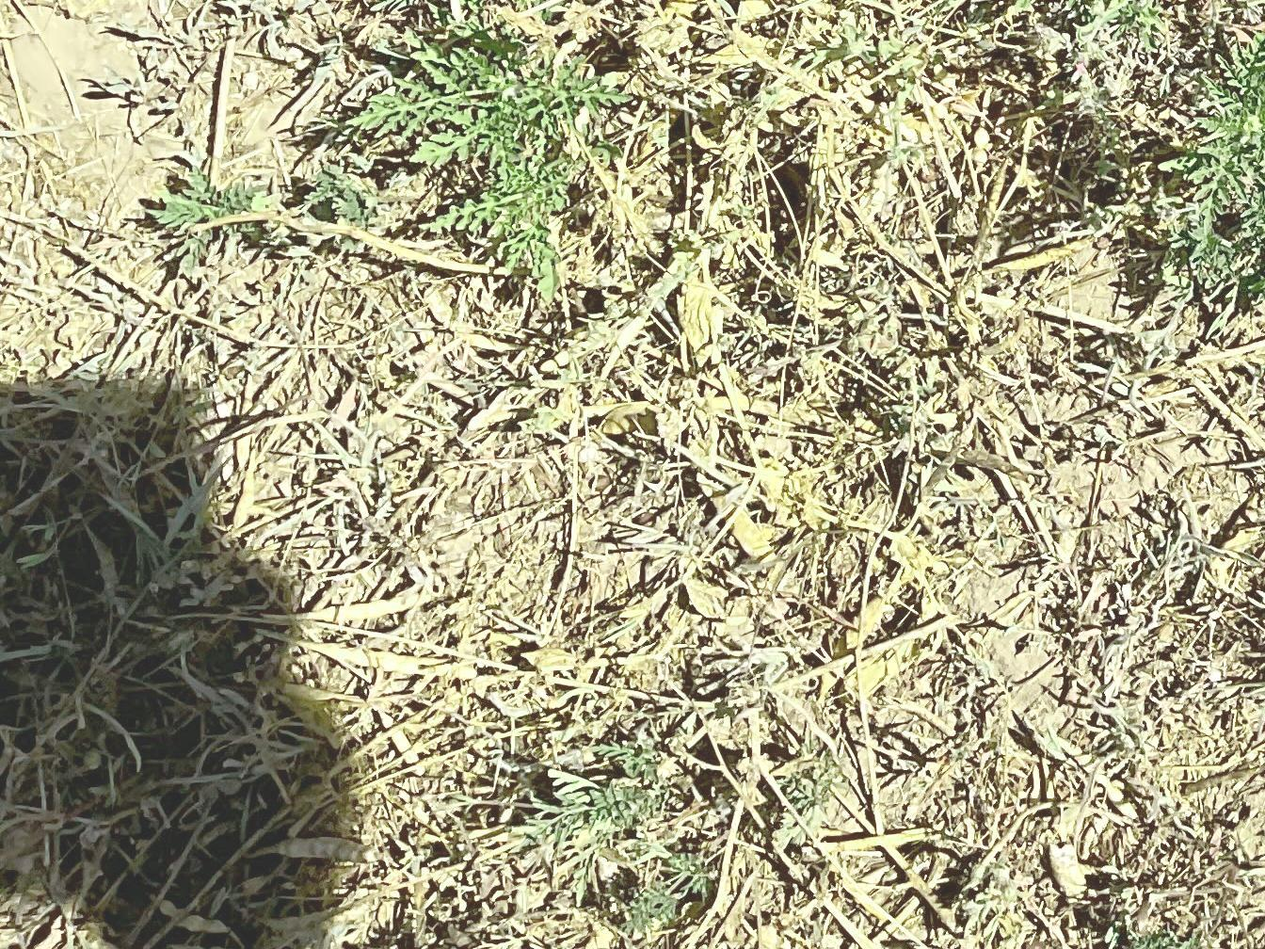AMBEL: (145, 17, 640, 293), (1065, 0, 1258, 340)
